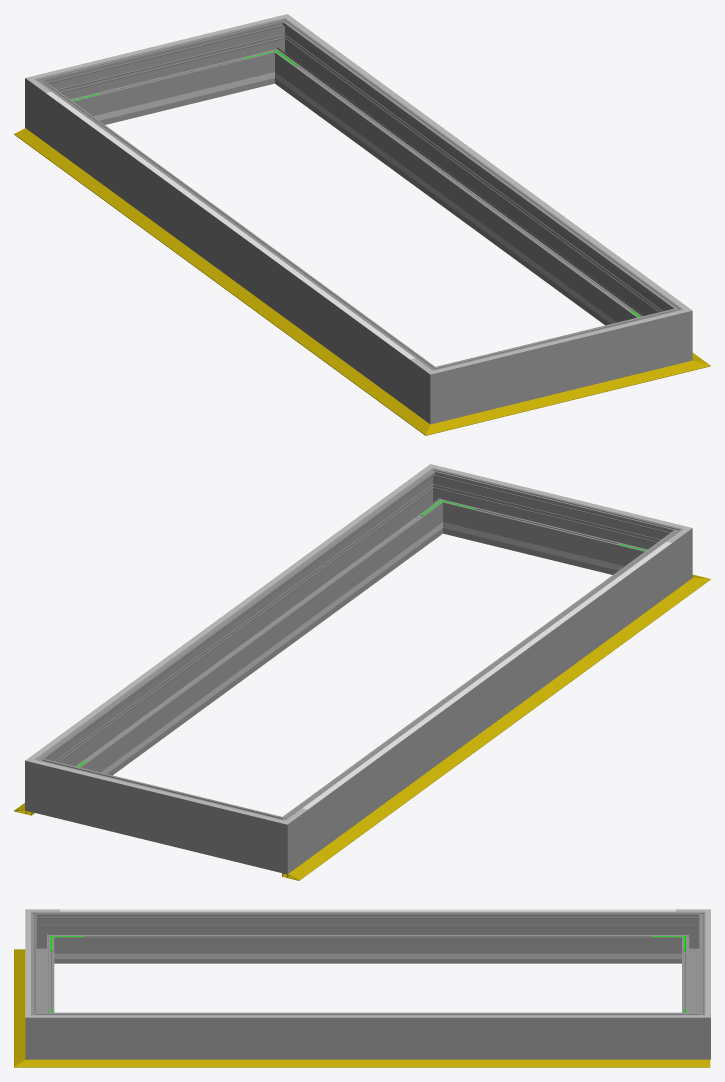
3 views of the same model, one above another, from view 1: azimuth 30°, elevation 25°; view 2: azimuth 150°, elevation 25°; view 3: azimuth 270°, elevation 25° (orthographic). The views are drawn at different scales.
Parts seen in each view (by area): view 1: 3DGeom-298, 3DGeom-269, 3DGeom-277, 3DGeom-299, 3DGeom-38, 3DGeom-271, 3DGeom-28, 3DGeom-314, 3DGeom-304, 3DGeom-238, 3DGeom-291, 3DGeom-285 (+4 smaller); view 2: 3DGeom-298, 3DGeom-269, 3DGeom-299, 3DGeom-277, 3DGeom-38, 3DGeom-279, 3DGeom-314, 3DGeom-304, 3DGeom-238, 3DGeom-285, 3DGeom-291, 3DGeom-271 (+3 smaller); view 3: 3DGeom-269, 3DGeom-298, 3DGeom-30, 3DGeom-233, 3DGeom-304, 3DGeom-314, 3DGeom-285, 3DGeom-291, 3DGeom-277, 3DGeom-299, 3DGeom-279, 3DGeom-271 (+4 smaller).
Part boxes in pixels (bbox=[...]): 3DGeom-298: bbox=[278, 29, 670, 325]; 3DGeom-269: bbox=[45, 90, 421, 409]; 3DGeom-277: bbox=[64, 25, 268, 124]; 3DGeom-299: bbox=[459, 314, 656, 415]; 3DGeom-38: bbox=[14, 128, 415, 420]; 3DGeom-271: bbox=[410, 357, 465, 424]; 3DGeom-28: bbox=[455, 366, 675, 426]; 3DGeom-314: bbox=[46, 92, 415, 359]; 3DGeom-304: bbox=[302, 29, 671, 296]; 3DGeom-238: bbox=[294, 86, 616, 323]; 3DGeom-291: bbox=[650, 297, 692, 368]; 3DGeom-285: bbox=[255, 15, 304, 85]; 3DGeom-298: bbox=[51, 479, 439, 775]; 3DGeom-269: bbox=[296, 540, 672, 858]; 3DGeom-299: bbox=[449, 475, 653, 574]; 3DGeom-277: bbox=[61, 764, 257, 865]; 3DGeom-38: bbox=[282, 588, 690, 880]; 3DGeom-279: bbox=[251, 807, 307, 874]; 3DGeom-314: bbox=[302, 542, 671, 809]; 3DGeom-304: bbox=[46, 479, 415, 746]; 3DGeom-238: bbox=[101, 537, 422, 773]; 3DGeom-285: bbox=[25, 747, 67, 818]; 3DGeom-291: bbox=[414, 465, 462, 535]; 3DGeom-271: bbox=[640, 522, 692, 592]; 3DGeom-269: bbox=[60, 911, 675, 963]; 3DGeom-298: bbox=[60, 1012, 675, 1059]; 3DGeom-30: bbox=[49, 1059, 710, 1067]; 3DGeom-233: bbox=[88, 953, 648, 958]; 3DGeom-304: bbox=[60, 1015, 675, 1017]; 3DGeom-314: bbox=[60, 909, 675, 911]; 3DGeom-285: bbox=[676, 1003, 710, 1059]; 3DGeom-291: bbox=[25, 1003, 59, 1059]; 3DGeom-277: bbox=[682, 924, 705, 1012]; 3DGeom-299: bbox=[31, 924, 54, 1012]; 3DGeom-279: bbox=[676, 911, 705, 963]; 3DGeom-271: bbox=[31, 911, 59, 963].
Bounding box in the file's own units: 1.22 × 0.2195 × 3.05.
